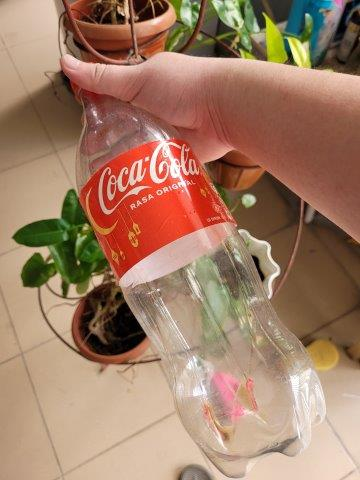botolplastik: (74, 90, 326, 479)
